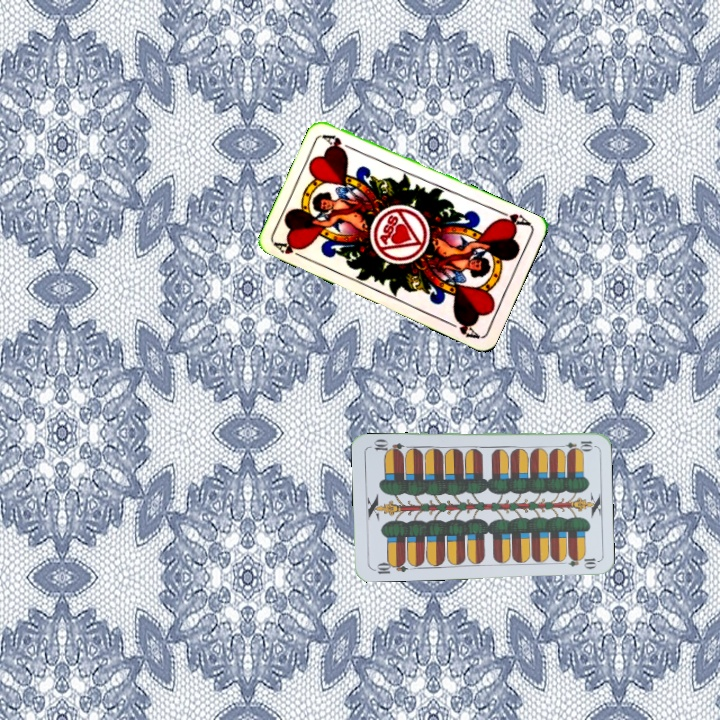E10: (369, 557, 410, 577), (555, 437, 595, 451)
HA: (271, 237, 310, 262), (494, 206, 533, 230)
